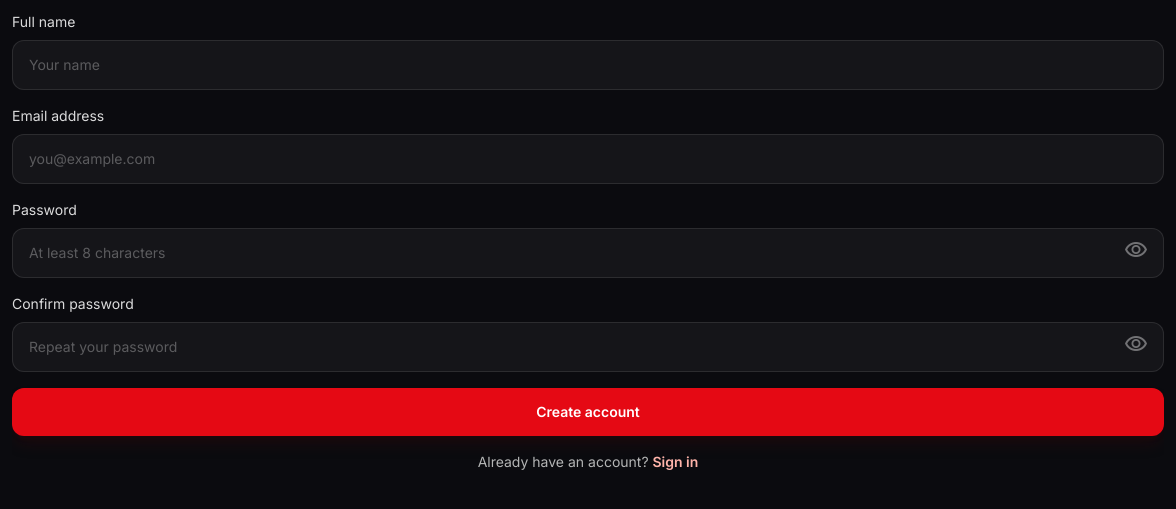
Test: SignupForm › rejects mismatched passwords
Type "Ada Lovelace" into the field labelled "Full name" at x=588, y=65, box [12,40,1164,90]
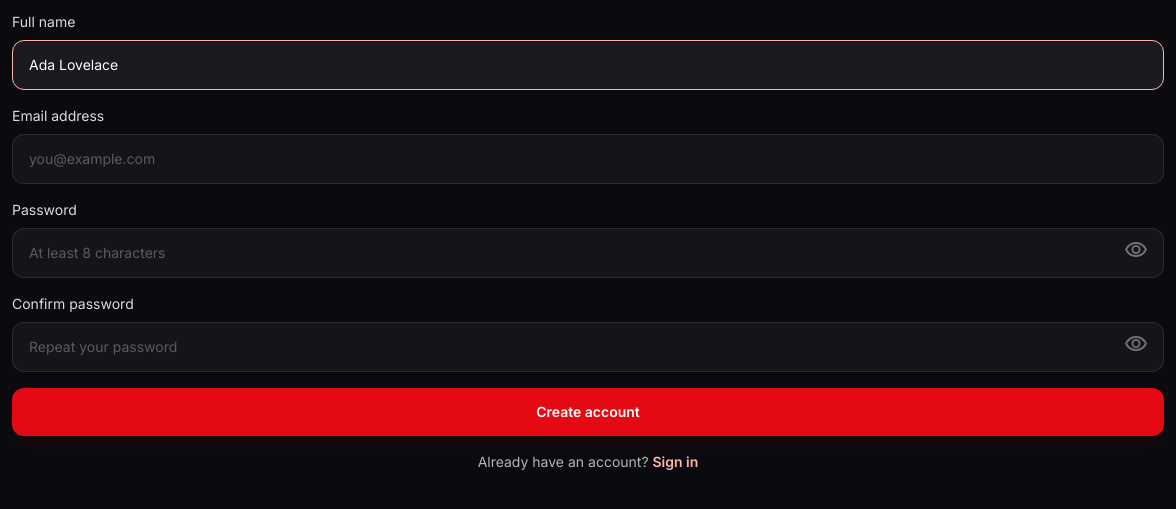
Type "ada@example.com" into the field labelled "Email address" at x=588, y=159, box [12,134,1164,184]
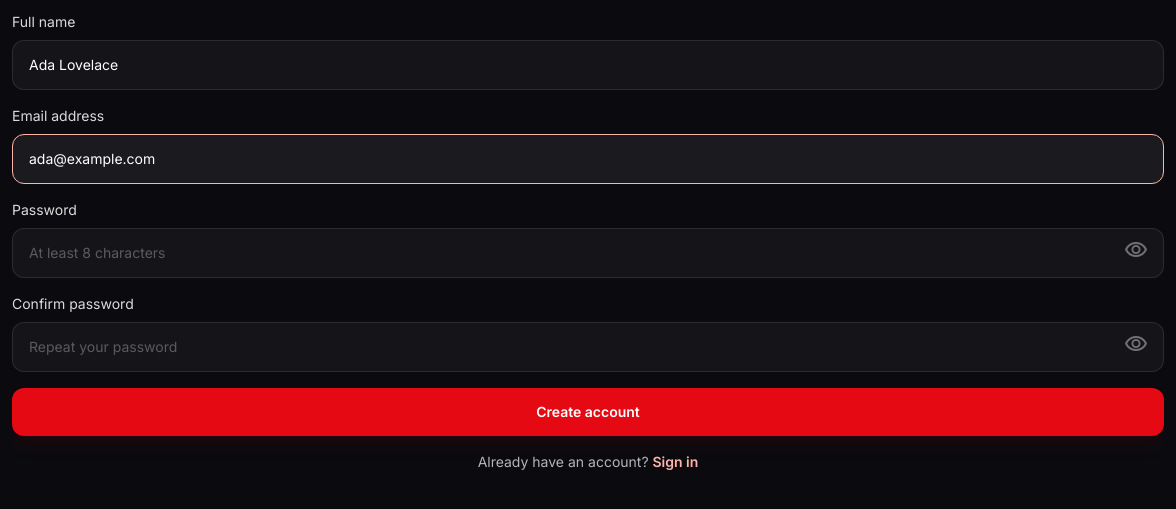
Type "password123" into the password field labelled "Password" at x=588, y=253, box [12,228,1164,278]
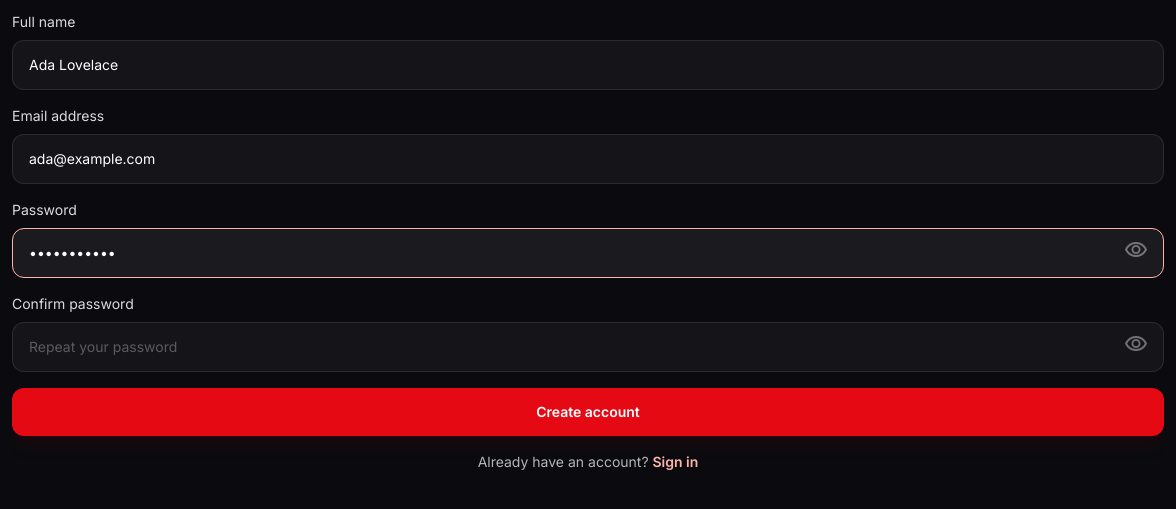
Type "password456" into the password field labelled "Confirm password" at x=588, y=347, box [12,322,1164,372]
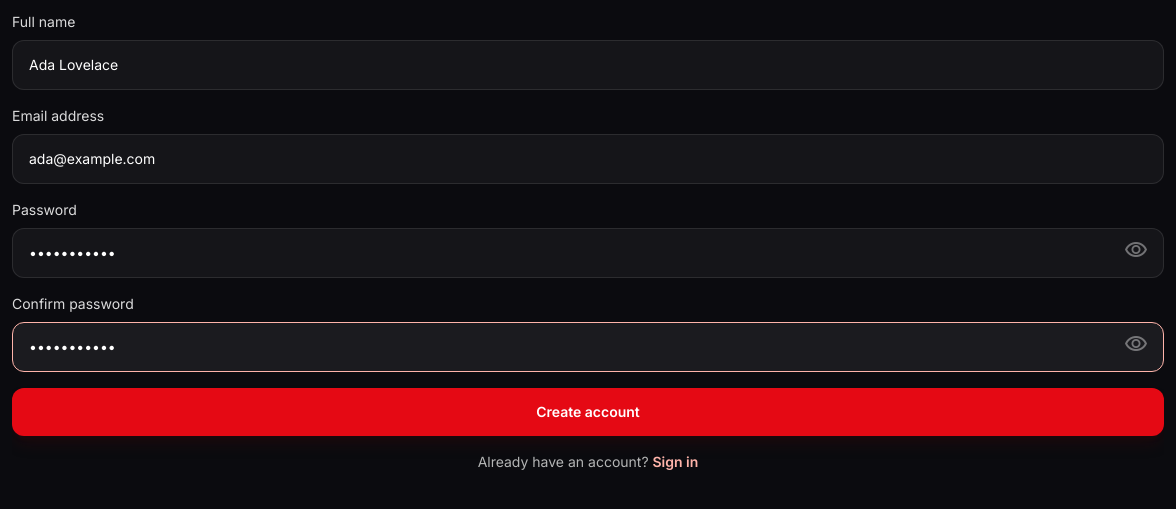
Click the button "Create account" at x=588, y=412, box [12,388,1164,436]
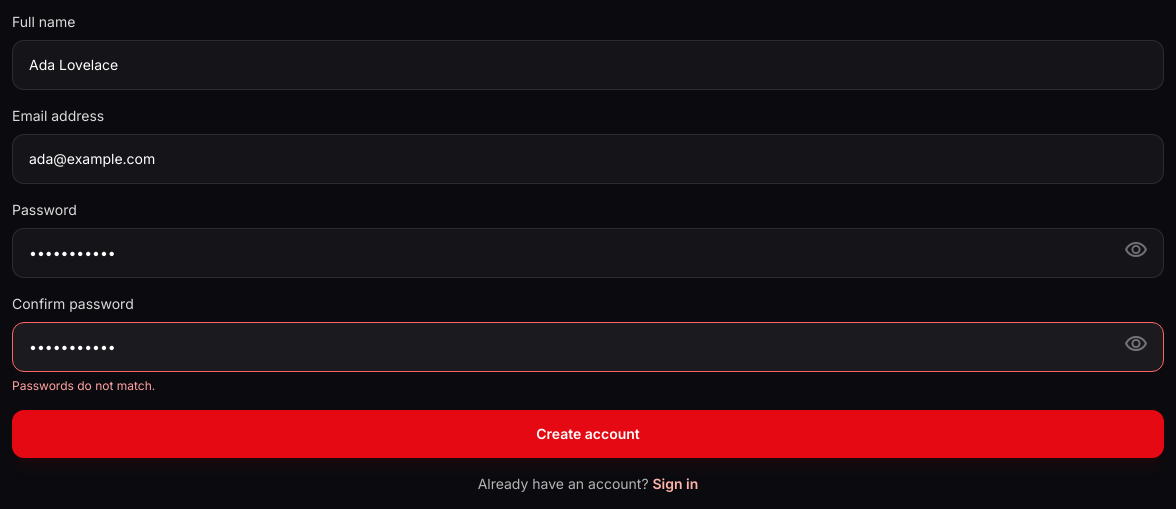
Expected: the text "Passwords do not match." is shown, [12,378,155,393]
